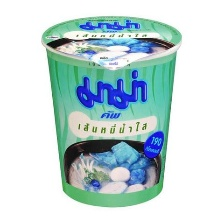paper_cup: (36, 11, 187, 212)
